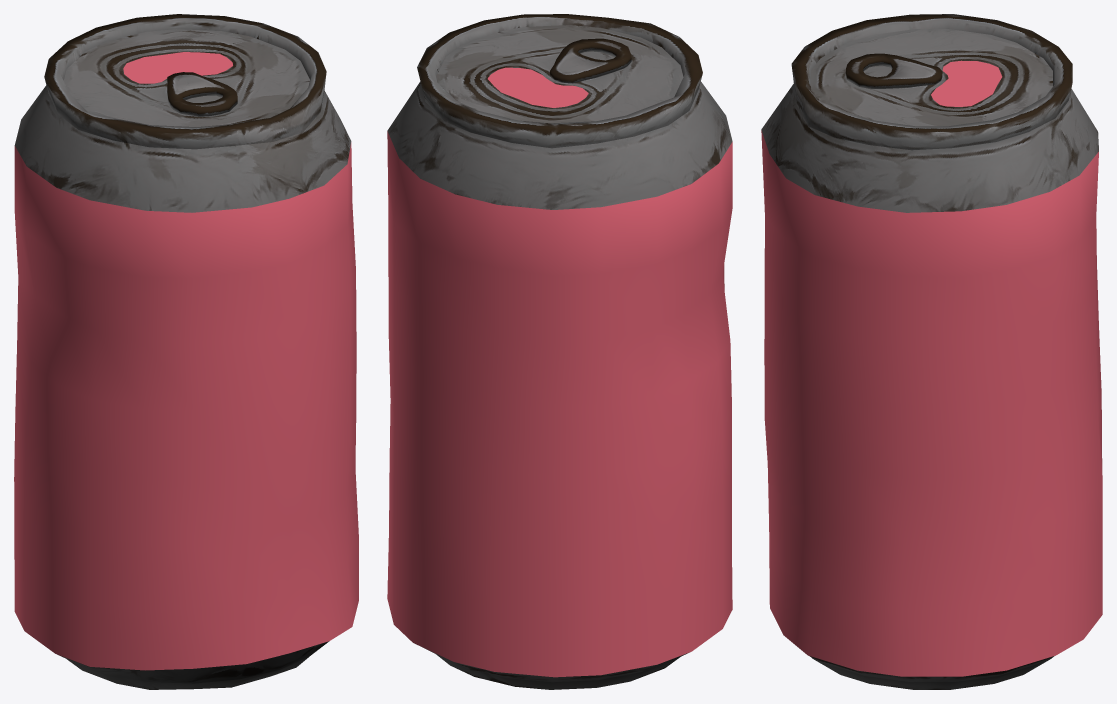
File: low_banki3.fbx
3 views of the same model, side by side, from view 1: azimuth 30°, elevation 25°; view 2: azimuth 150°, elevation 25°; view 3: azimuth 270°, elevation 25° (orthographic).
Visible parts, largest first — view 1: banka_low3.002; view 2: banka_low3.002; view 3: banka_low3.002.
Boxes of the visible parts, x1,y1,x2,y2 form: banka_low3.002: (14,14,358,689); banka_low3.002: (387,14,732,689); banka_low3.002: (761,14,1102,689).
Bounding box in the file's own units: 40.05 × 40.19 × 72.97.
Materials: 2 (1 with a texture image).
